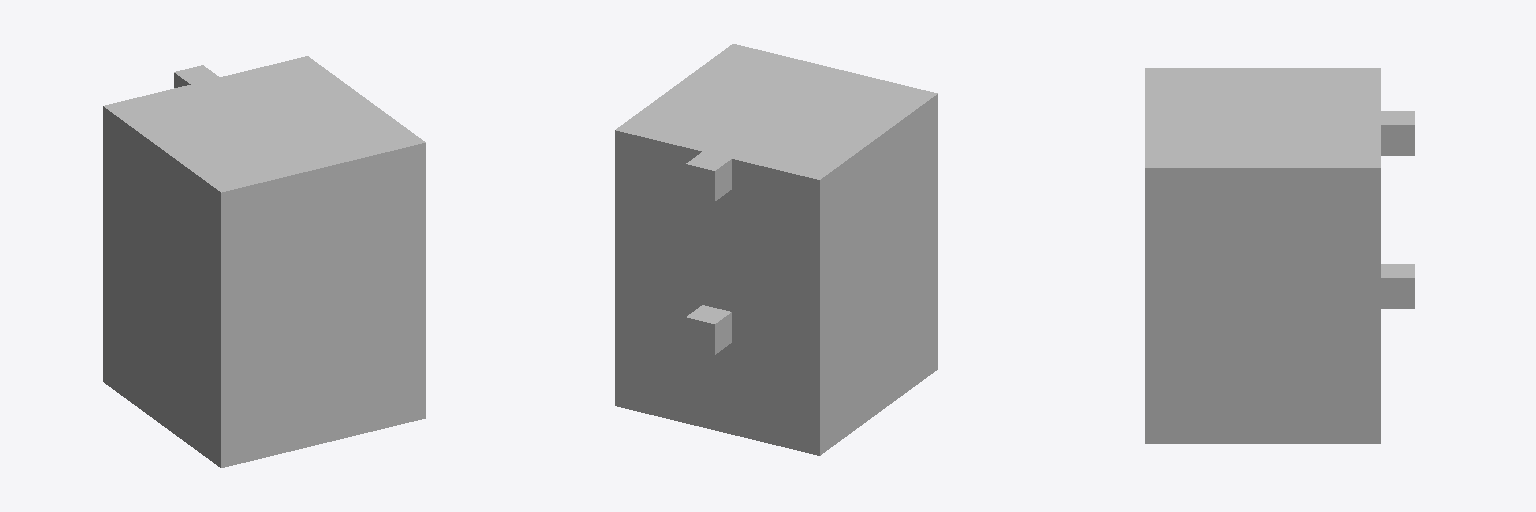
The model's file is bedside table.obj.
3 views of the same model, side by side, from view 1: azimuth 30°, elevation 25°; view 2: azimuth 150°, elevation 25°; view 3: azimuth 270°, elevation 25° (orthographic).
Parts seen in each view (by area): view 1: object 1; view 2: object 1; view 3: object 1.
Boxes of the visible parts, x1,y1,x2,y2 form: object 1: [103, 56, 425, 467]; object 1: [615, 44, 937, 455]; object 1: [1145, 68, 1414, 443].
Bounding box in the file's own units: 0.7 × 0.9 × 0.8.